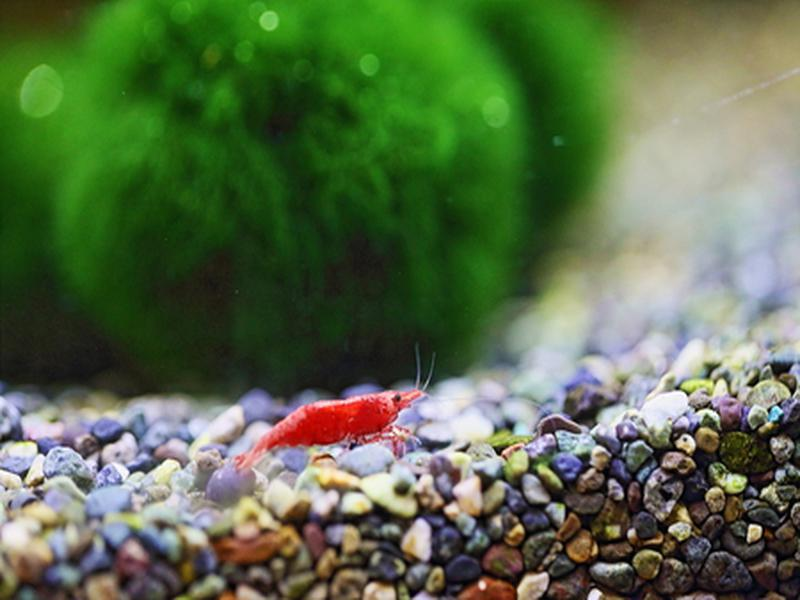shrimp: (235, 388, 427, 442)
